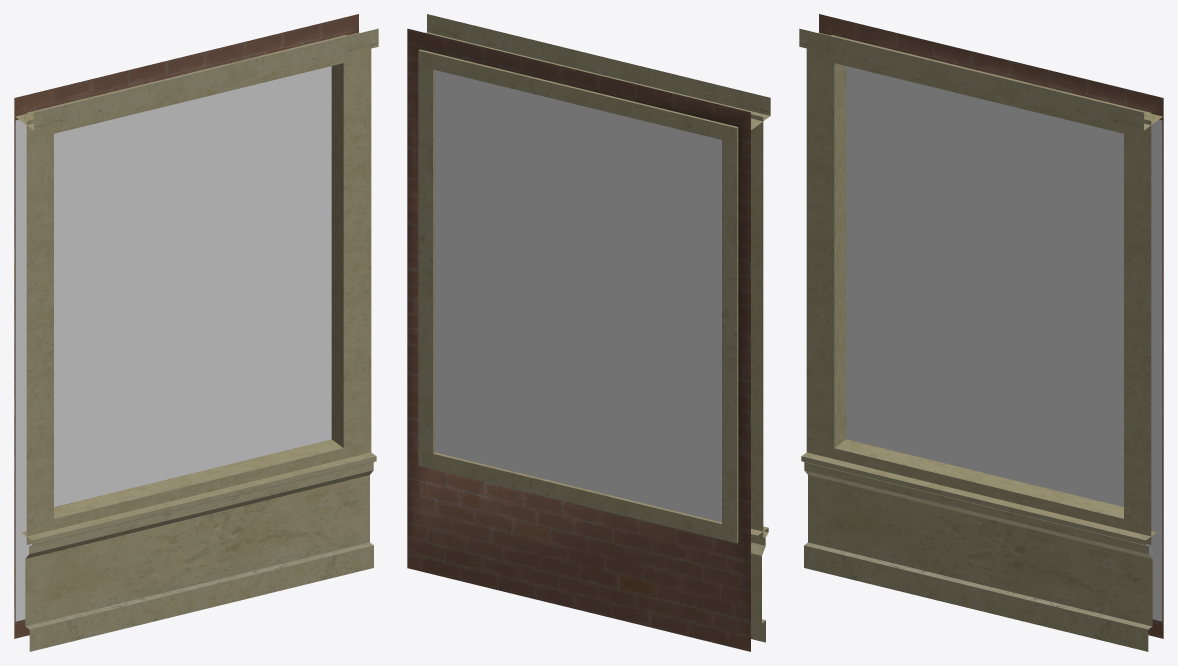
File: Trim_FirstFloor_Window_001.gltf
3 renders of one model, left to right at view 1: azimuth 30°, elevation 25°; view 2: azimuth 150°, elevation 25°; view 3: azimuth 330°, elevation 25°, orthographic.
Visible parts, largest first — view 1: Trim_FirstFloor_Window.001; view 2: Trim_FirstFloor_Window.001; view 3: Trim_FirstFloor_Window.001.
Part boxes in pixels (box(x1,y1,x2,y2)): Trim_FirstFloor_Window.001: box(14, 14, 378, 651); Trim_FirstFloor_Window.001: box(407, 14, 770, 651); Trim_FirstFloor_Window.001: box(799, 14, 1163, 651).
Size of the model in its own units: 2 by 3.01 by 0.2151.
4 materials, 2 textured.
